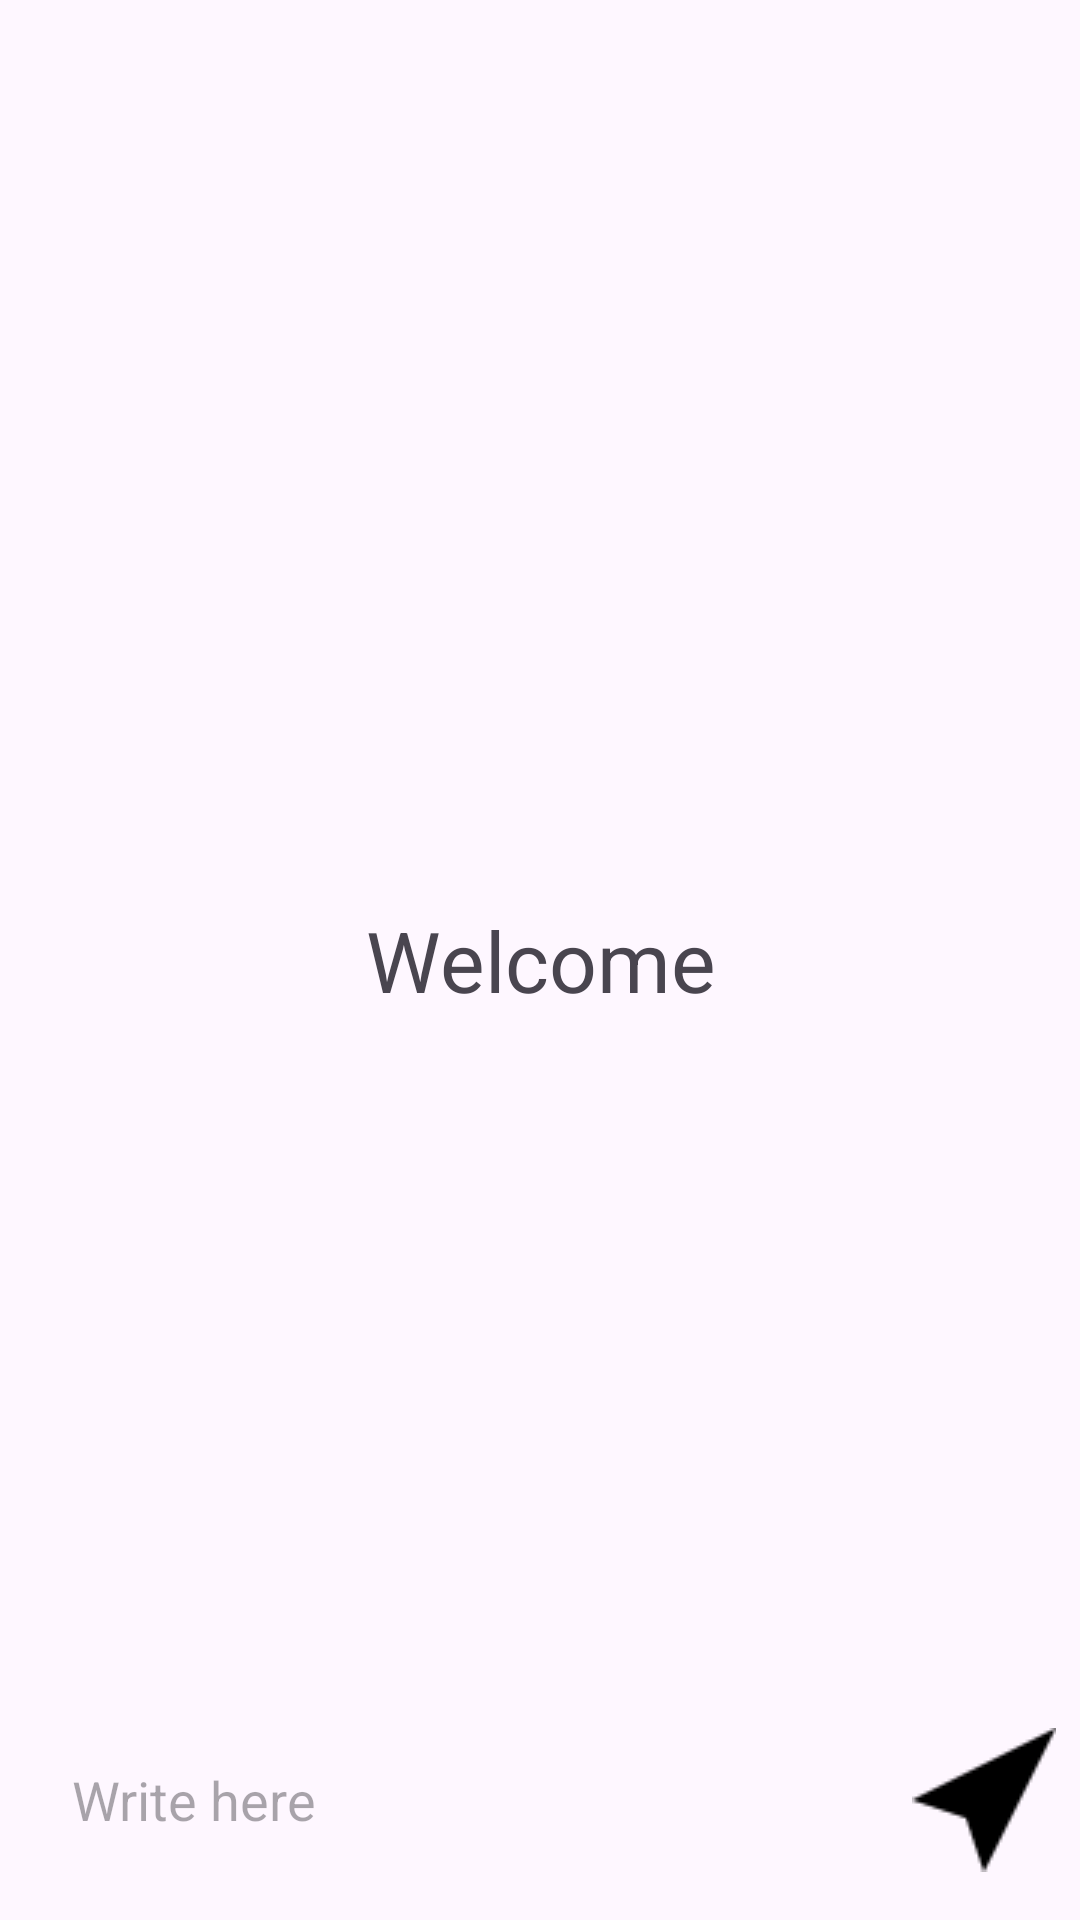

Named icons in this screenshot (1080*1920) and their bounding boxes, region(x1, y1, x2, y2):
send: region(912, 1728, 1056, 1872)
